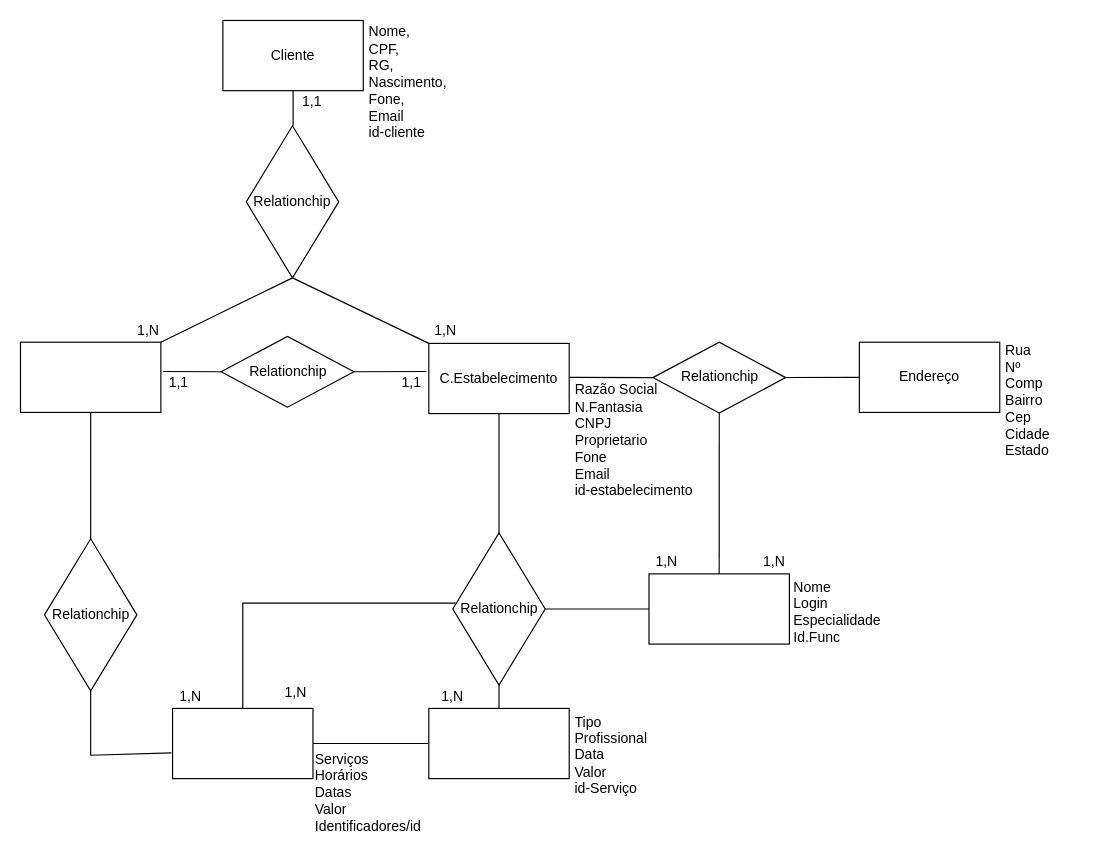
Some shapes in this 1094 by 860 pixel diagram are drawn without their labels. The shapes that lost their labels are listed below. From the top down, each one's box as (x1, y1, x2, y2) in pixels, then its label:
(19, 341, 161, 412): C.Pessoa Fisica
(648, 573, 789, 644): Profissionais
(171, 707, 313, 779): Agendamento
(428, 707, 569, 779): Serviços
